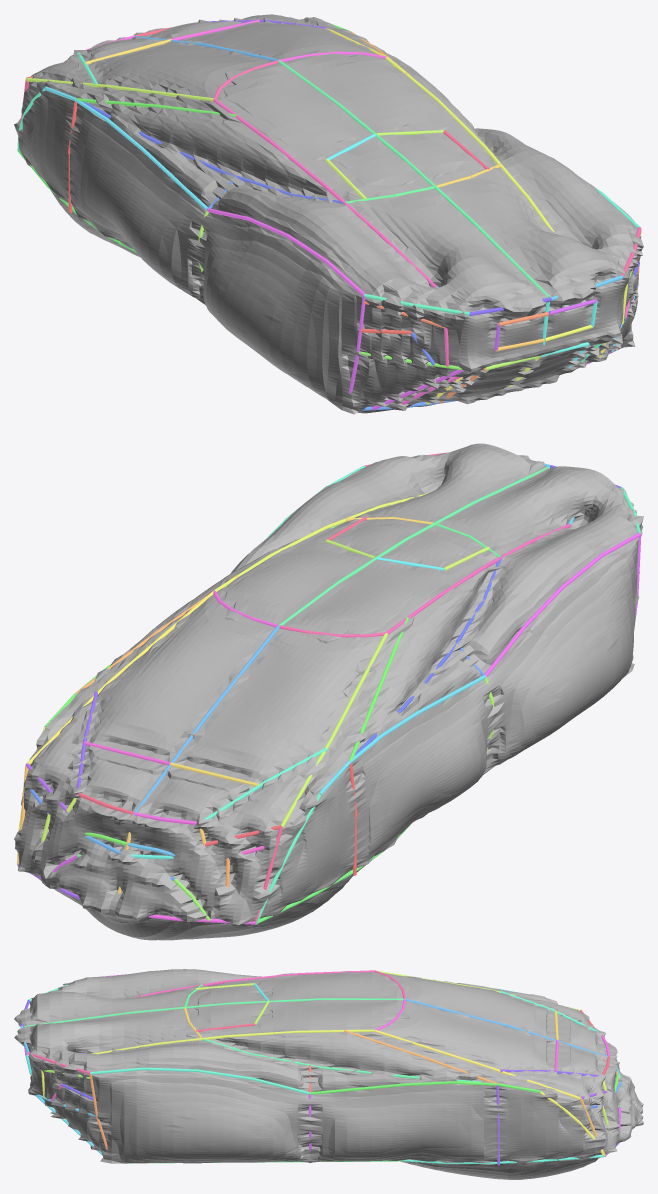
File: ils_car3.gltf
The picture shows the model from 3 angles, top to bottom: view 1: azimuth 30°, elevation 25°; view 2: azimuth 150°, elevation 25°; view 3: azimuth 270°, elevation 25°; orthographic projection. The views are drawn at different scales.
Size of the model in its own units: 0.4265 by 0.2669 by 0.9378.
